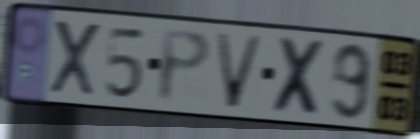5: (103, 24, 148, 101)
9: (330, 40, 375, 123)
P: (156, 26, 214, 108)
V: (212, 29, 267, 112)
X: (270, 33, 329, 121), (47, 16, 103, 100)
